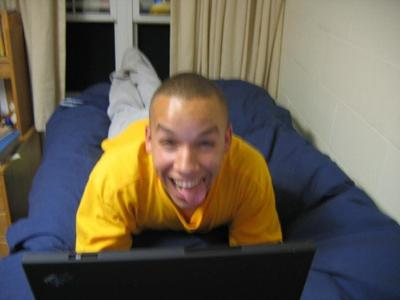person: (74, 46, 284, 255)
